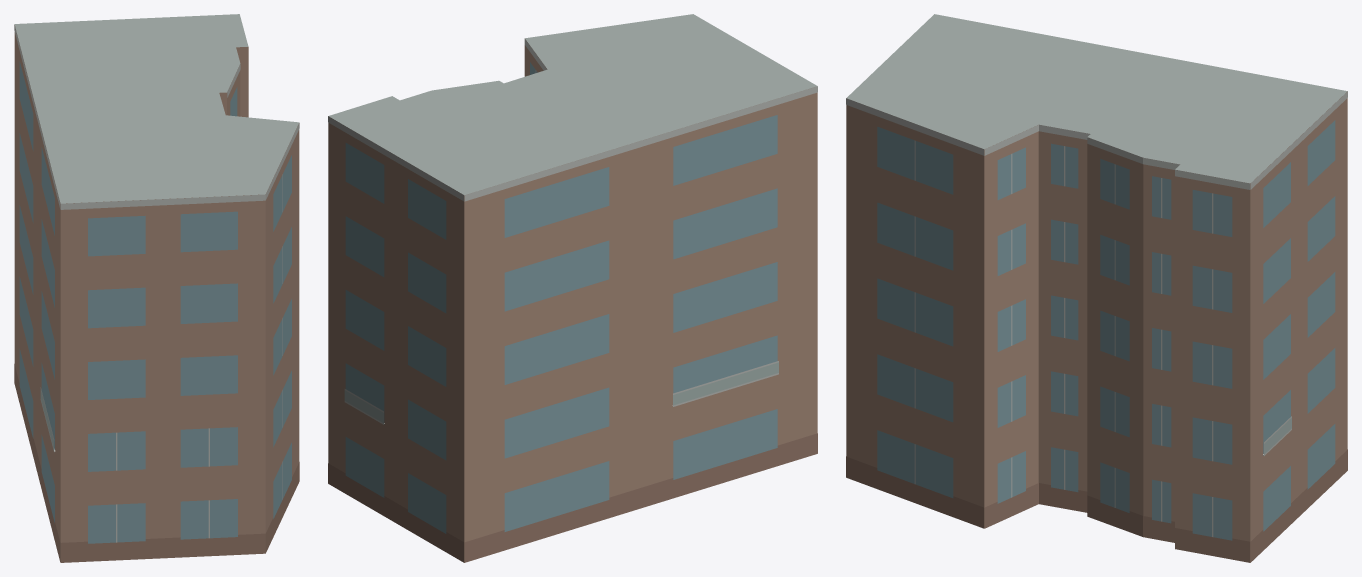
File: survey-upis-33000445.glb
3 renders of one model, left to right at view 1: azimuth 30°, elevation 25°; view 2: azimuth 150°, elevation 25°; view 3: azimuth 270°, elevation 25°, orthographic. The views are drawn at different scales.
Visible parts, largest first — view 1: survey-upis-33000445.tmp; view 2: survey-upis-33000445.tmp; view 3: survey-upis-33000445.tmp.
Boxes of the visible parts, <box> form: survey-upis-33000445.tmp: <box>14,14,299,562</box>; survey-upis-33000445.tmp: <box>328,14,817,562</box>; survey-upis-33000445.tmp: <box>846,14,1347,562</box>.
Size of the model in its own units: 13.42 by 14 by 16.78.
